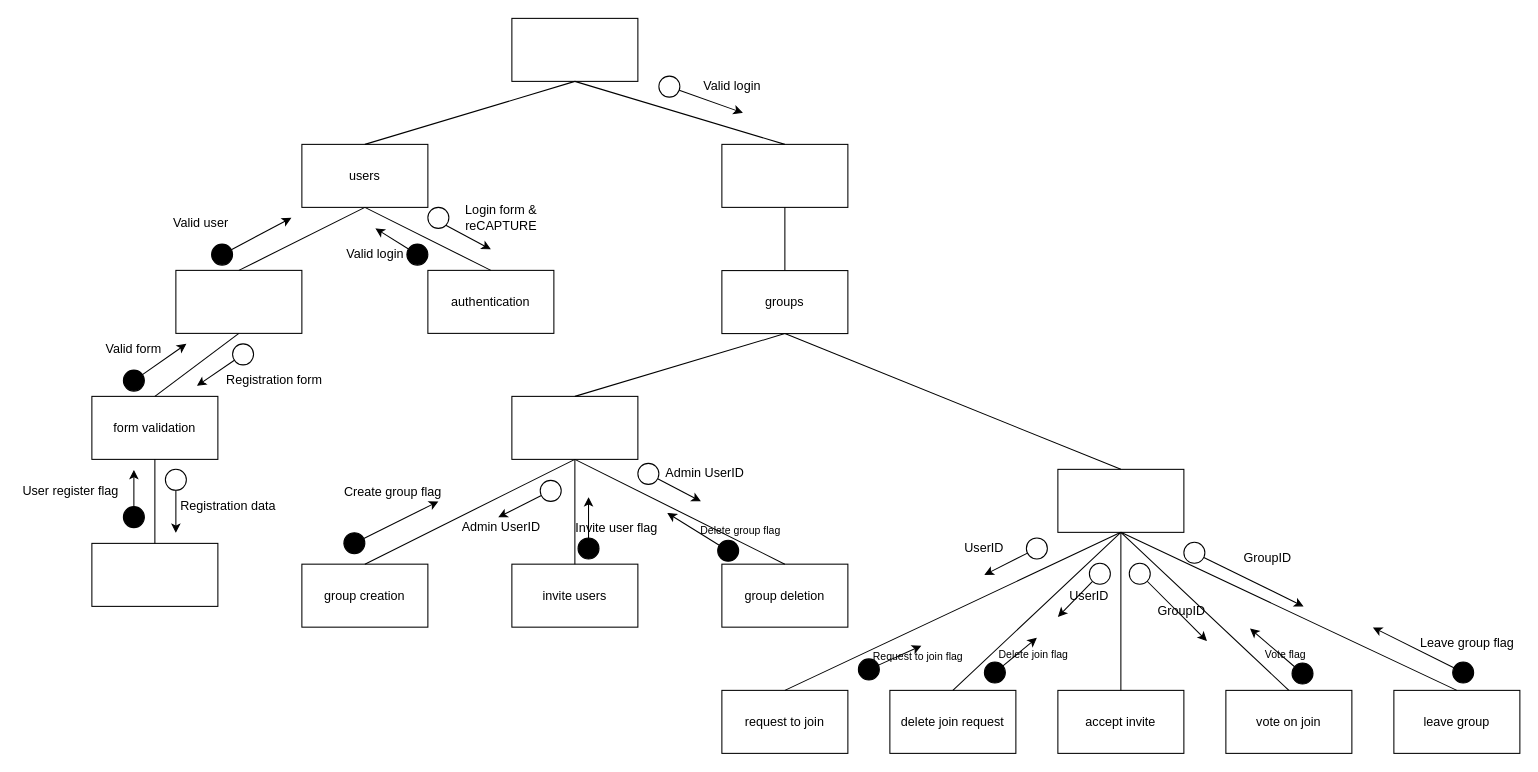
The diagram is 1538 pixels wide and 772 high, and some of its shapes have lost their labels. The shapes that lost their labels are listed below. From the top down, each one's centre as x and y in pixels, then its label:
At (574,49): "ssa_project".
At (784,175): "chipin".
At (238,301): "registration".
At (574,427): "Admin Functions".
At (1120,500): "User Functions".
At (154,574): "profile creation".
